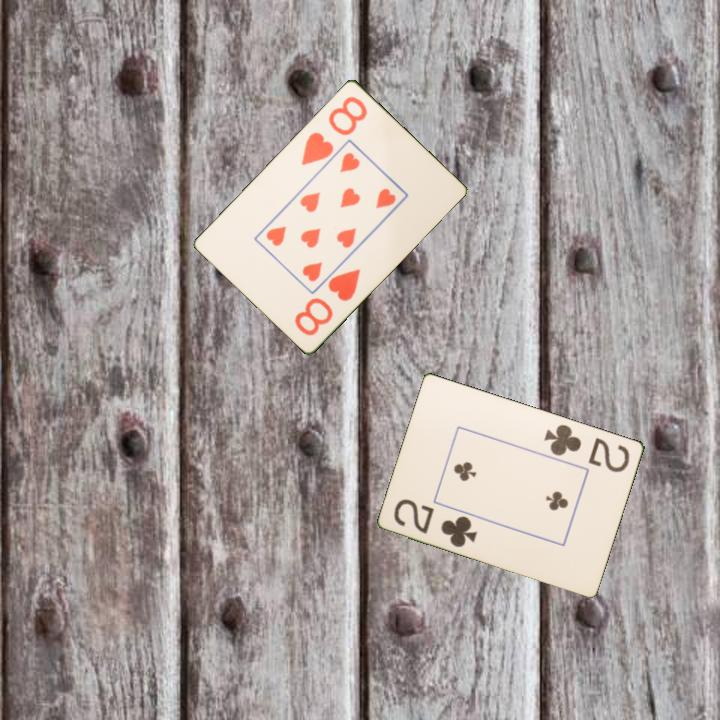2c: (541, 420, 633, 475), (390, 495, 480, 550)
8h: (297, 92, 370, 168), (291, 265, 363, 338)
